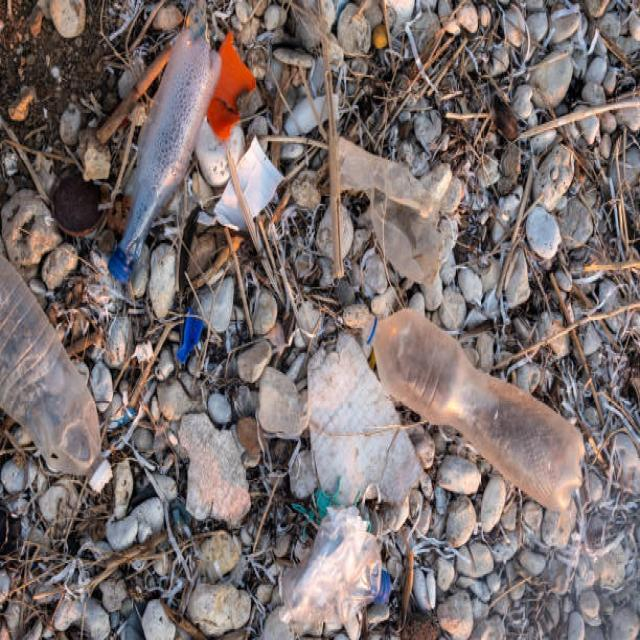plastic: (1, 9, 163, 550), (361, 302, 602, 518), (146, 33, 214, 279)
